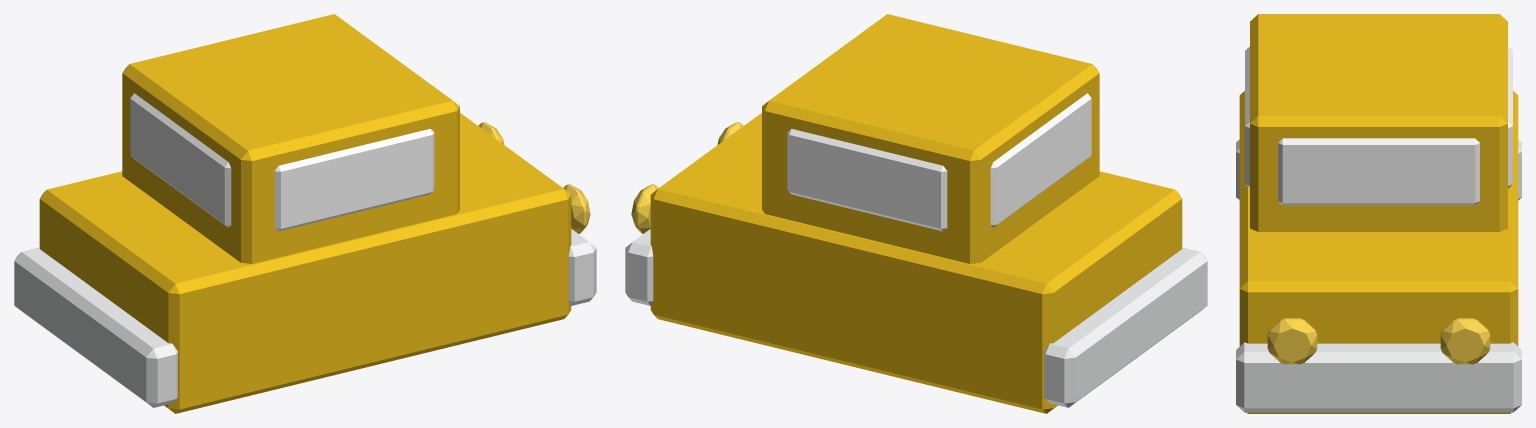
File: toy_car_body.glb
The picture shows the model from 3 angles, left to right: view 1: azimuth 30°, elevation 25°; view 2: azimuth 150°, elevation 25°; view 3: azimuth 270°, elevation 25°; orthographic projection.
Parts seen in each view (by area): view 1: toy_car_body; view 2: toy_car_body; view 3: toy_car_body.
Boxes of the visible parts, bbox=[...] form: toy_car_body: bbox=[14, 14, 596, 413]; toy_car_body: bbox=[625, 14, 1207, 413]; toy_car_body: bbox=[1236, 14, 1521, 413].
Bounding box in the file's own units: 0.387 × 0.194 × 0.205.
